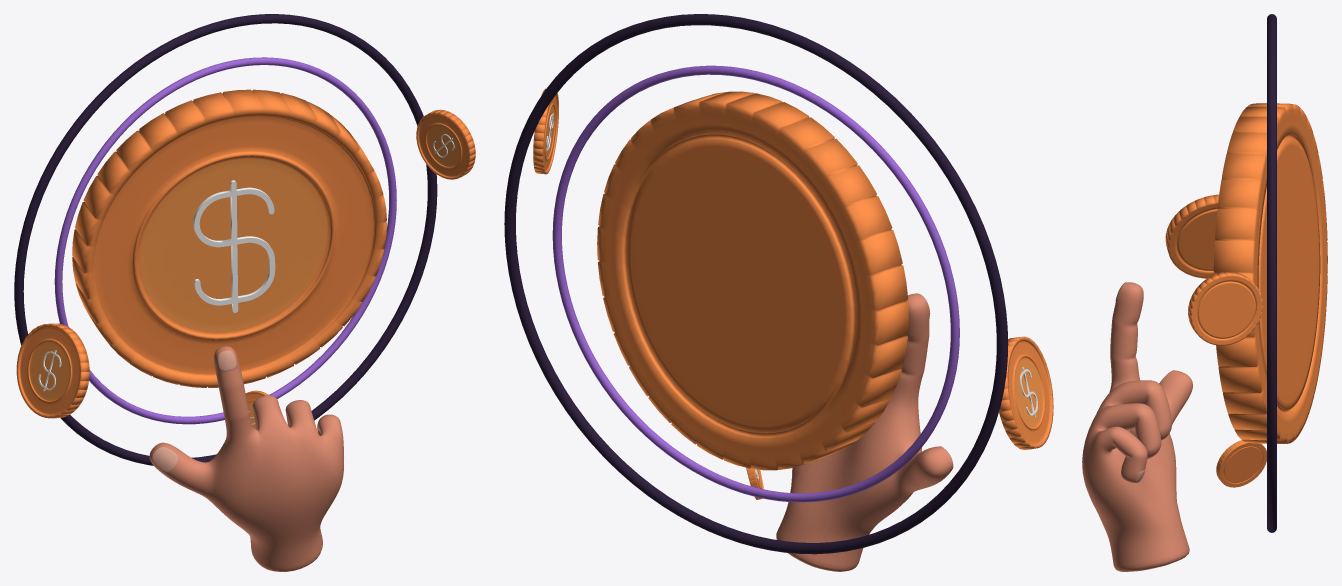
Rendered from pay-per-click-3d-animated-icon-1186050828168.glb.
The picture shows the model from 3 angles, left to right: view 1: azimuth 30°, elevation 25°; view 2: azimuth 150°, elevation 25°; view 3: azimuth 270°, elevation 25°; orthographic projection. The views are drawn at different scales.
Visible parts, largest first — view 1: Big Coin, Hands, Big Ring, Small Ring, Cylinder.003, Cylinder.002; view 2: Big Coin, Big Ring, Hands, Small Ring, Cylinder.003, Cylinder.002; view 3: Big Coin, Hands, Big Ring, Cylinder.002, Cylinder.003, Cylinder.004.
Boxes of the visible parts, x1=… form: Big Coin: x1=72, y1=89, x2=386, y2=387; Hands: x1=149, y1=346, x2=343, y2=571; Big Ring: x1=14, y1=14, x2=437, y2=465; Small Ring: x1=54, y1=57, x2=396, y2=424; Cylinder.003: x1=16, y1=323, x2=89, y2=418; Cylinder.002: x1=416, y1=109, x2=475, y2=179; Big Coin: x1=597, y1=91, x2=908, y2=470; Big Ring: x1=504, y1=14, x2=1008, y2=554; Hands: x1=776, y1=293, x2=953, y2=571; Small Ring: x1=552, y1=65, x2=959, y2=502; Cylinder.003: x1=999, y1=336, x2=1053, y2=449; Cylinder.002: x1=533, y1=88, x2=558, y2=174; Big Coin: x1=1213, y1=103, x2=1327, y2=443; Hands: x1=1082, y1=282, x2=1192, y2=571; Big Ring: x1=1267, y1=14, x2=1276, y2=532; Cylinder.002: x1=1188, y1=272, x2=1262, y2=345; Cylinder.003: x1=1165, y1=194, x2=1218, y2=278; Cylinder.004: x1=1216, y1=440, x2=1266, y2=487.
Bounding box in the file's own units: 1.63 × 1.81 × 0.7586.
